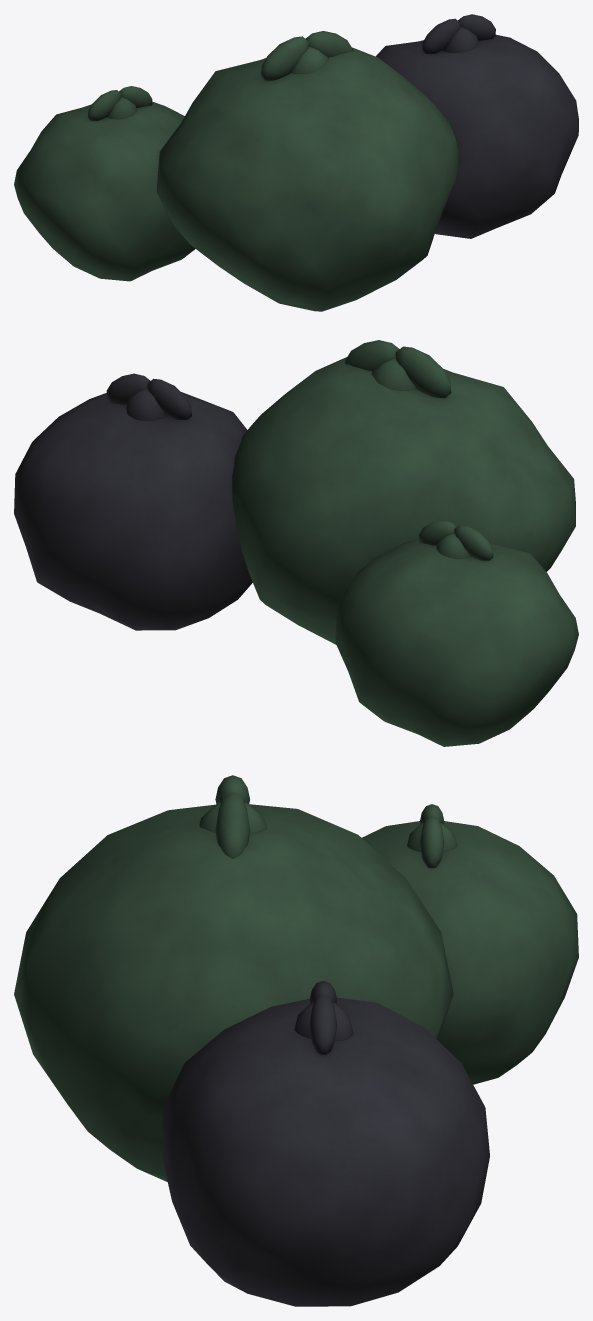
The model's file is TrashBags.fbx.
3 renders of one model, top to bottom at view 1: azimuth 30°, elevation 25°; view 2: azimuth 150°, elevation 25°; view 3: azimuth 270°, elevation 25°, orthographic. The views are drawn at different scales.
Parts seen in each view (by area): view 1: TrashBags; view 2: TrashBags; view 3: TrashBags.
Boxes of the visible parts, bbox=[...] form: TrashBags: bbox=[14, 14, 578, 311]; TrashBags: bbox=[14, 340, 578, 746]; TrashBags: bbox=[14, 775, 578, 1306].
Size of the model in its own units: 2.3 by 1.17 by 1.56.
1 material, 1 textured.
